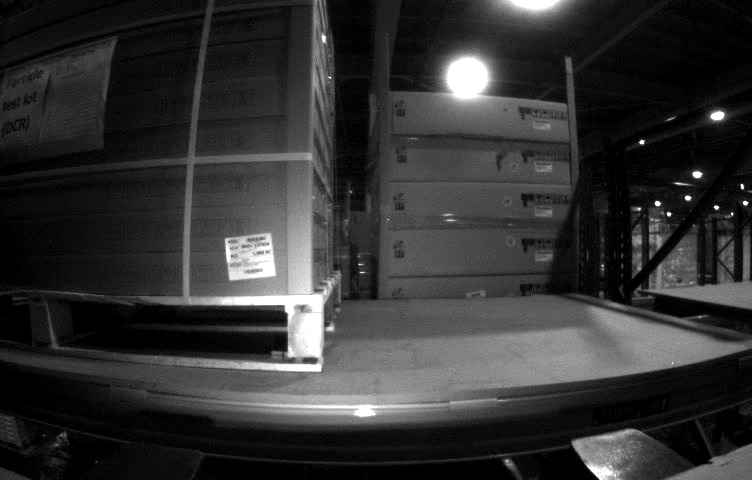True Barcode: (225, 232, 278, 280)
